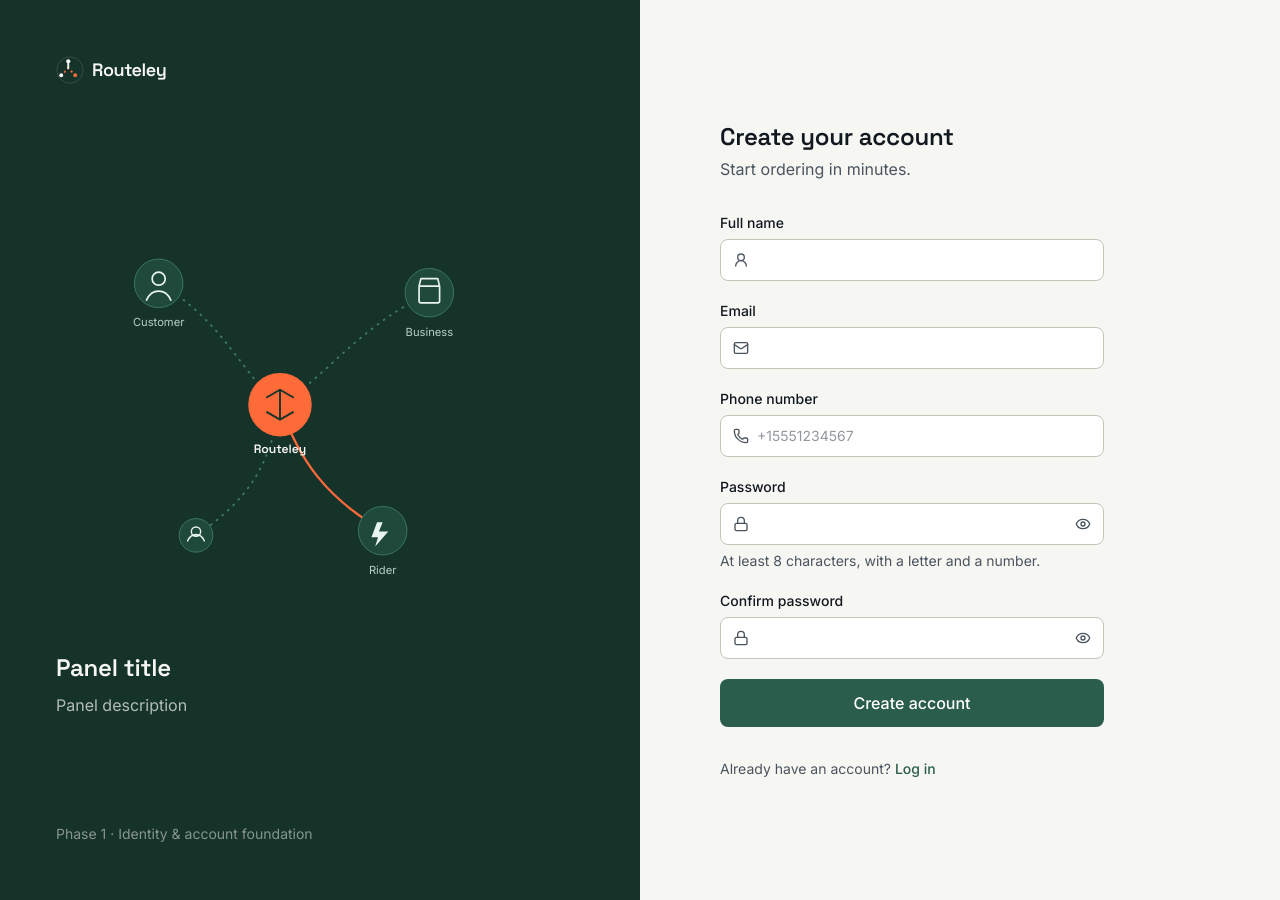
RegisterPage validation › blocks submission and shows field errors when the form is empty
Click the button "Create account" at (912, 703), box [720,679,1104,727]
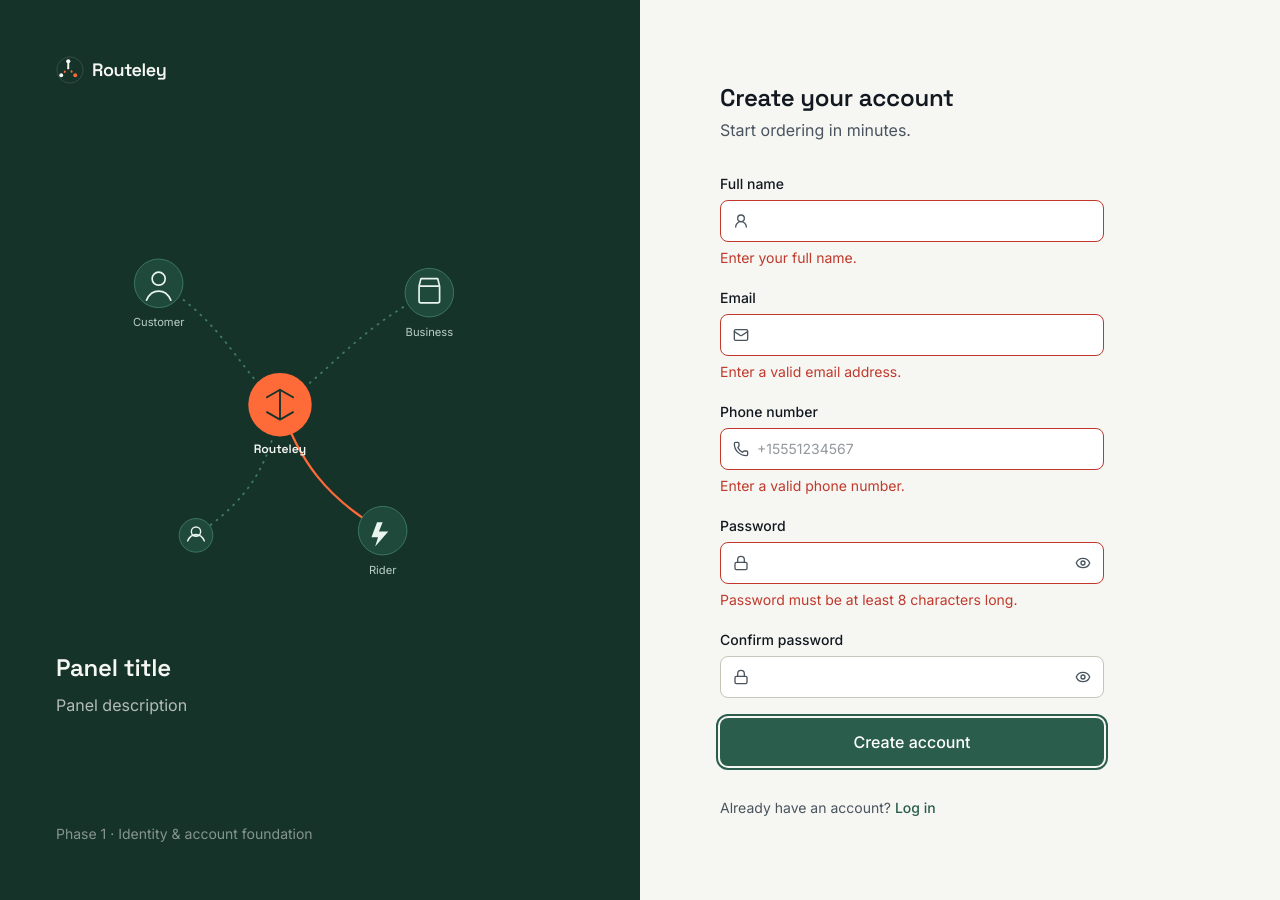
expect the text "Enter your full name." is shown: met, box [720,249,857,266]
expect the text "Enter a valid email address." is shown: met, box [720,363,901,380]
expect the text "Enter a valid phone number." is shown: met, box [720,477,905,494]
